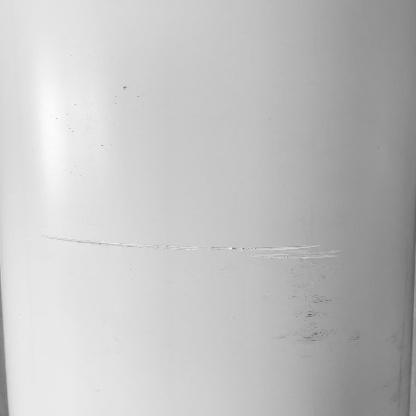sunshang: (32, 229, 355, 269)
